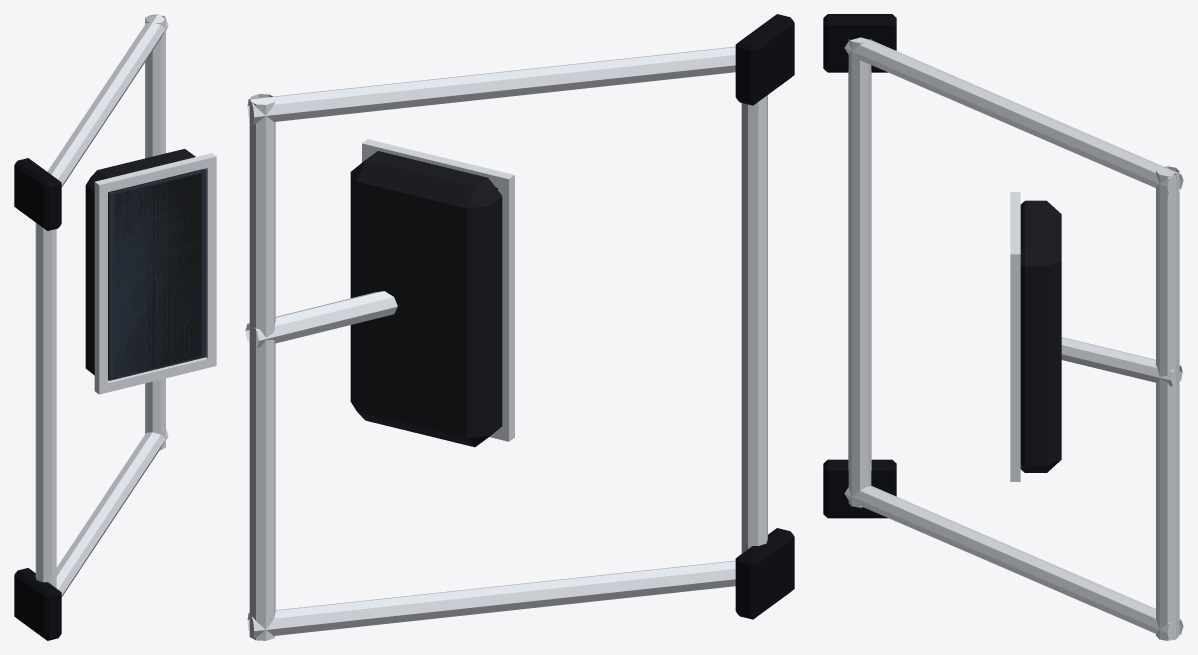
The model's file is mirror_stay_frame.glb.
3 renders of one model, left to right at view 1: azimuth 30°, elevation 25°; view 2: azimuth 150°, elevation 25°; view 3: azimuth 270°, elevation 25°, orthographic. The views are drawn at different scales.
Visible parts, largest first — view 1: mirror_stay_frame_chrome, mirror_stay_frame_deco_body, mirror_stay_frame_deco_mirror, mirror_stay_frame_deco_trim; view 2: mirror_stay_frame_chrome, mirror_stay_frame_deco_body, mirror_stay_frame_deco_trim; view 3: mirror_stay_frame_chrome, mirror_stay_frame_deco_body, mirror_stay_frame_deco_trim.
Boxes of the visible parts, x1,y1,x2,y2 form: mirror_stay_frame_chrome: (35, 14, 216, 597); mirror_stay_frame_deco_body: (85, 149, 204, 377); mirror_stay_frame_deco_mirror: (108, 169, 206, 380); mirror_stay_frame_deco_trim: (14, 158, 61, 640); mirror_stay_frame_chrome: (245, 46, 767, 640); mirror_stay_frame_deco_body: (350, 151, 502, 447); mirror_stay_frame_deco_trim: (735, 14, 794, 619); mirror_stay_frame_chrome: (844, 37, 1183, 640); mirror_stay_frame_deco_body: (1020, 200, 1061, 472); mirror_stay_frame_deco_trim: (823, 14, 896, 518).
Bounding box in the file's own units: 0.4805 × 0.751 × 0.4915.
